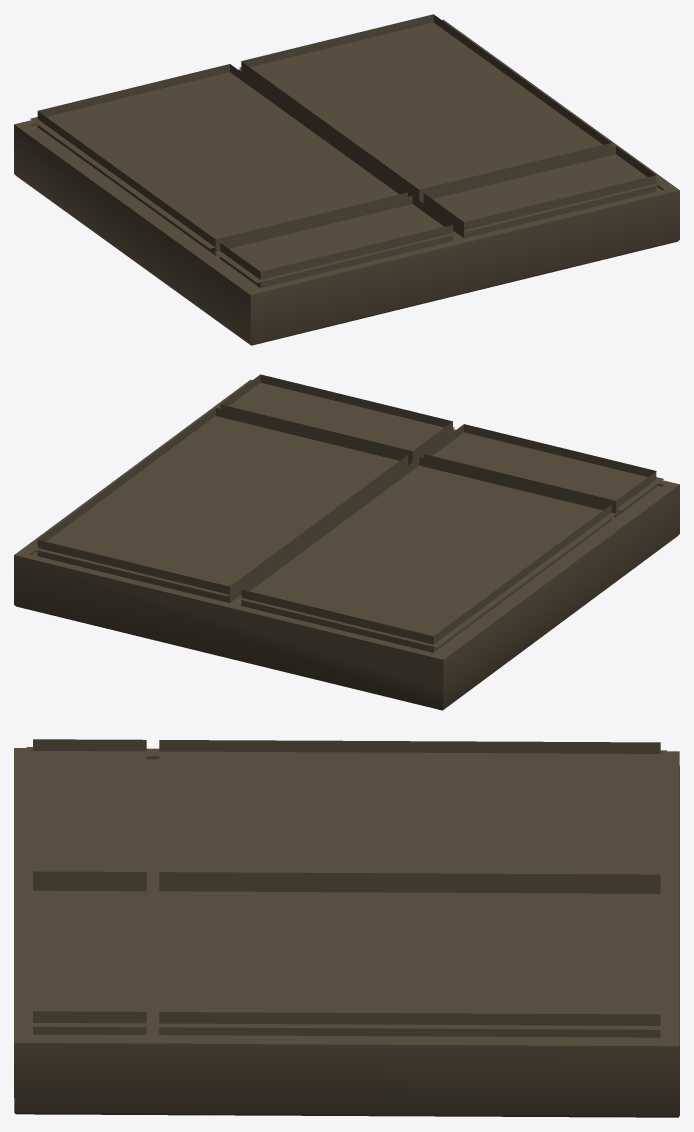
Rendered from window.fbx.
The picture shows the model from 3 angles, top to bottom: view 1: azimuth 30°, elevation 25°; view 2: azimuth 150°, elevation 25°; view 3: azimuth 270°, elevation 25°; orthographic projection. The views are drawn at different scales.
Parts seen in each view (by area): view 1: window; view 2: window; view 3: window.
Part boxes in pixels (x1,y1,x2,y2): window: (14, 14, 679, 345); window: (14, 374, 679, 710); window: (14, 739, 679, 1117).
Bounding box in the file's own units: 142 × 21.57 × 136.
